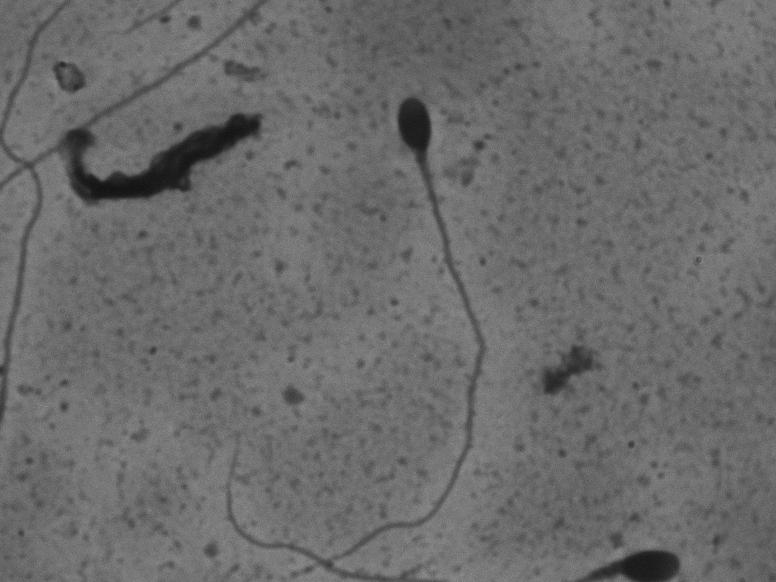Normal: (263, 91, 504, 565)
